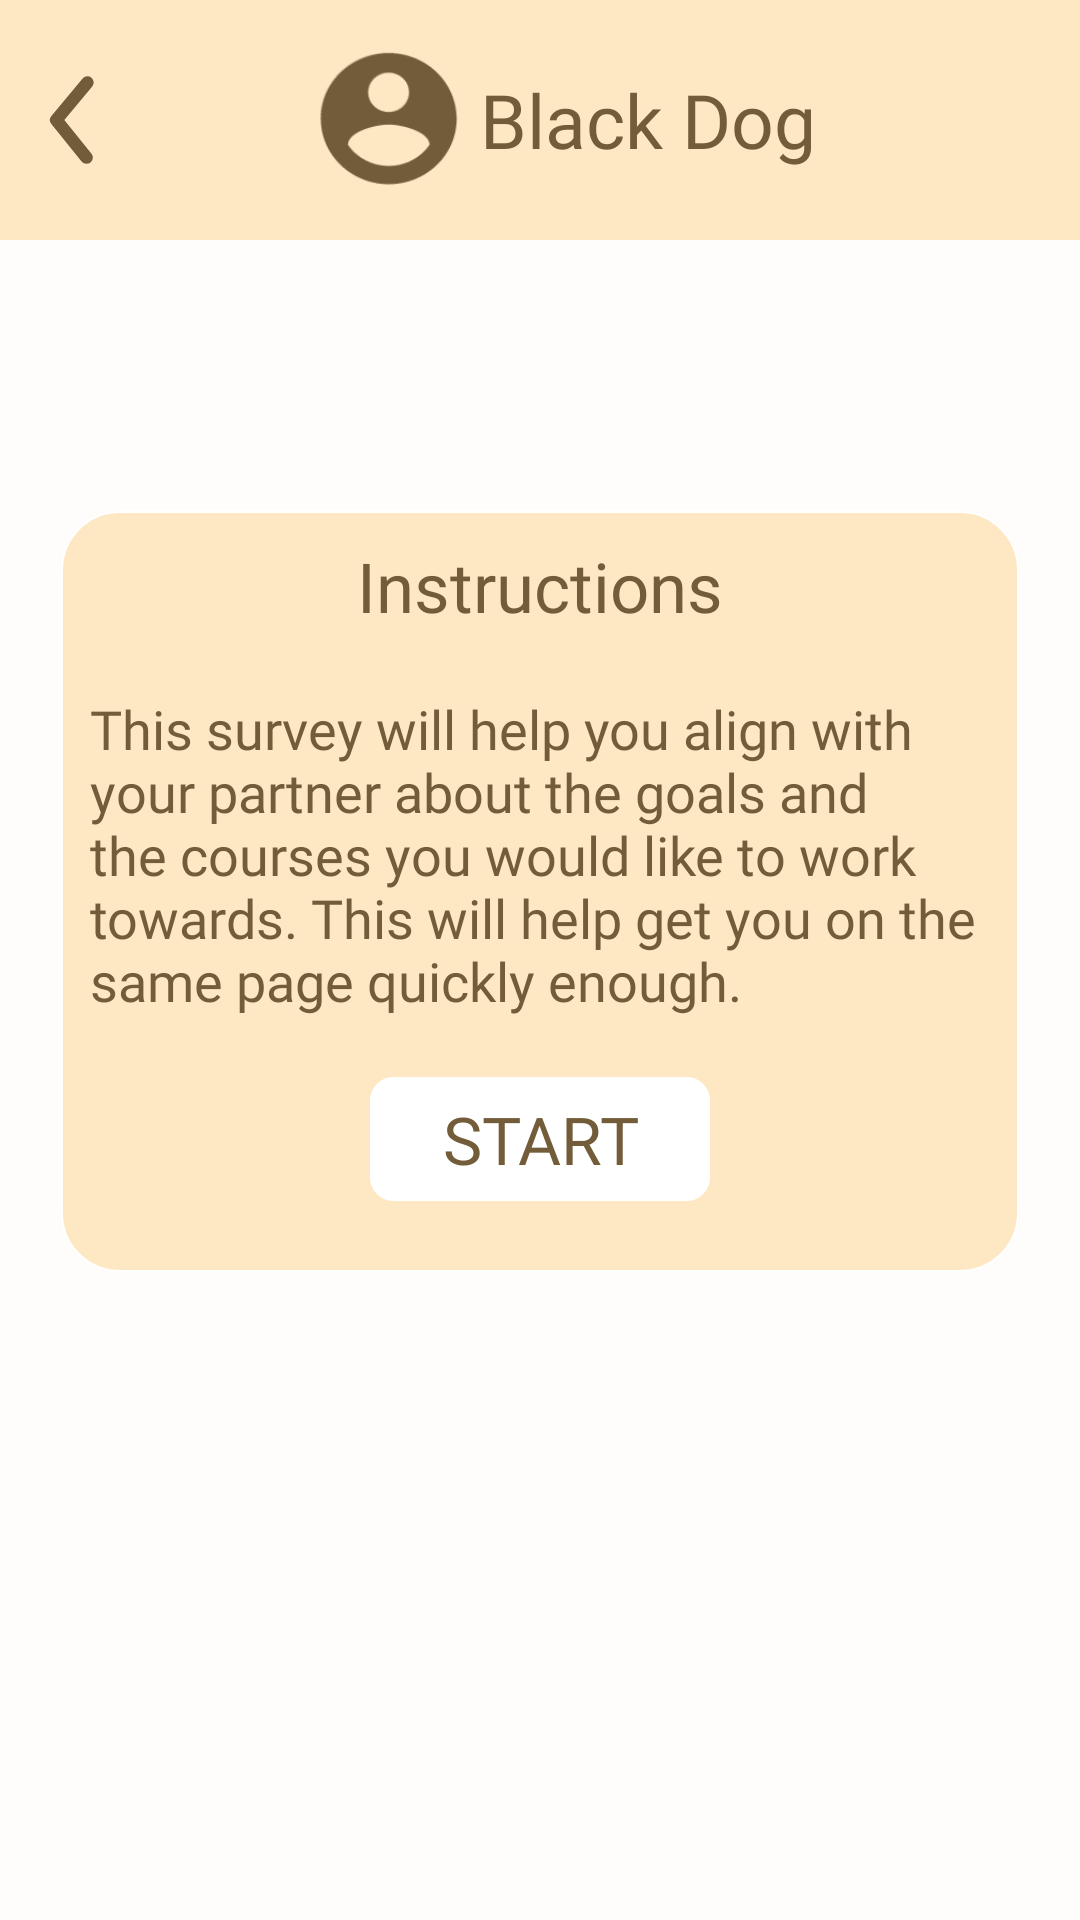

Where to tap for icons on this 1080px×1920px app screen, as (x,y):
on surface profile photo: (388,119)
